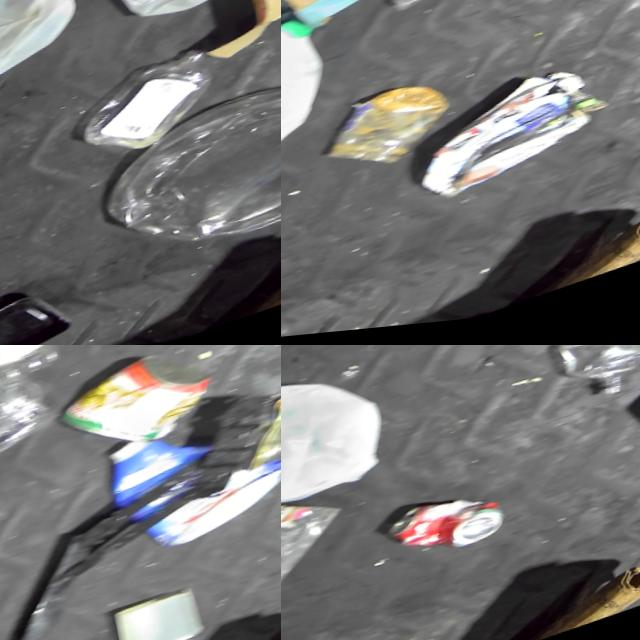can: (57, 345, 229, 473), (324, 78, 458, 185), (388, 485, 509, 575)
milk_jug: (281, 350, 394, 543), (281, 7, 342, 198), (0, 0, 85, 124)
non_white_jug: (91, 397, 281, 572)
plastic_bottle: (526, 345, 640, 421), (0, 345, 74, 397)
